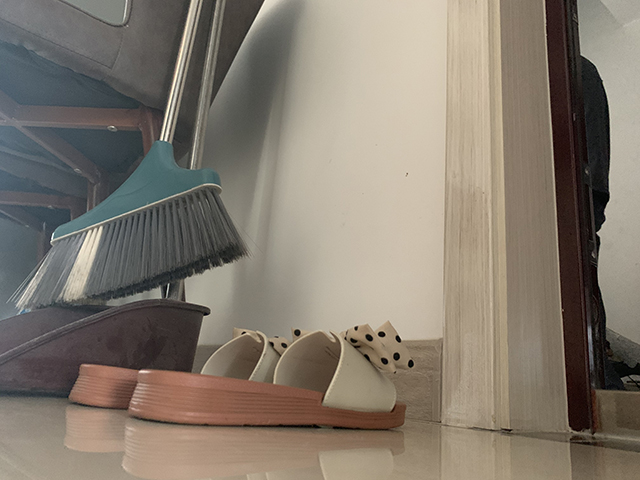slippers: (129, 318, 412, 428), (66, 330, 283, 407)
